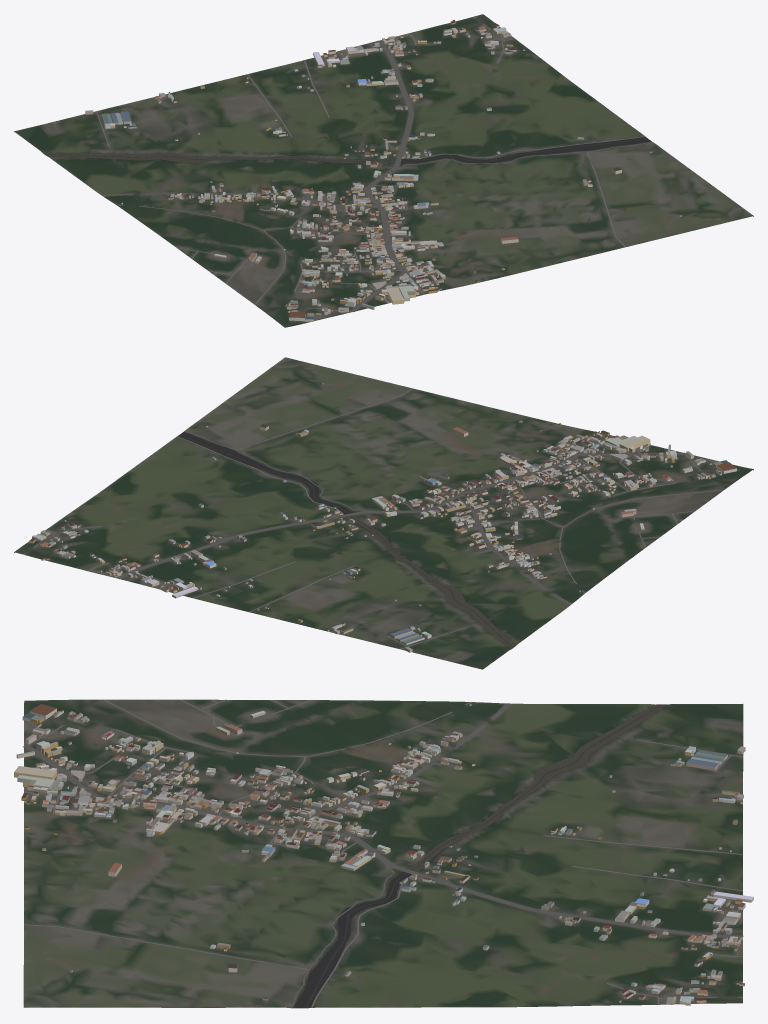
The picture shows the model from 3 angles, top to bottom: view 1: azimuth 30°, elevation 25°; view 2: azimuth 150°, elevation 25°; view 3: azimuth 270°, elevation 25°; orthographic projection. The views are drawn at different scales.
Parts seen in each view (by area): view 1: ground, buildings, roads, water; view 2: ground, buildings, roads, water; view 3: ground, buildings, roads, water.
Part boxes in pixels (x1,y1,x2,y2): ground: (14, 14, 753, 327); buildings: (85, 20, 681, 321); roads: (96, 16, 652, 311); water: (43, 137, 651, 164); ground: (14, 357, 753, 669); buildings: (29, 382, 736, 652); roads: (23, 388, 723, 649); water: (177, 432, 514, 648); ground: (23, 699, 743, 1008); buildings: (14, 703, 753, 1005); roads: (23, 699, 743, 1007); water: (293, 704, 667, 1007).
Size of the model in its own units: 1406 by 22.69 by 1441.
